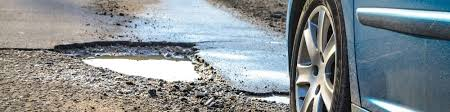pothole: (1, 37, 206, 110), (209, 63, 290, 111), (227, 1, 287, 29), (85, 1, 138, 21)
